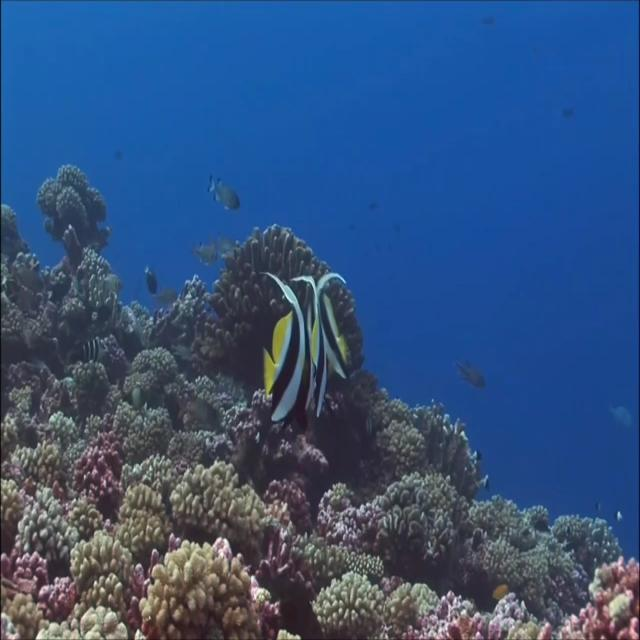Bannerfish: (260, 268, 315, 432), (293, 274, 327, 419), (319, 270, 348, 377)
